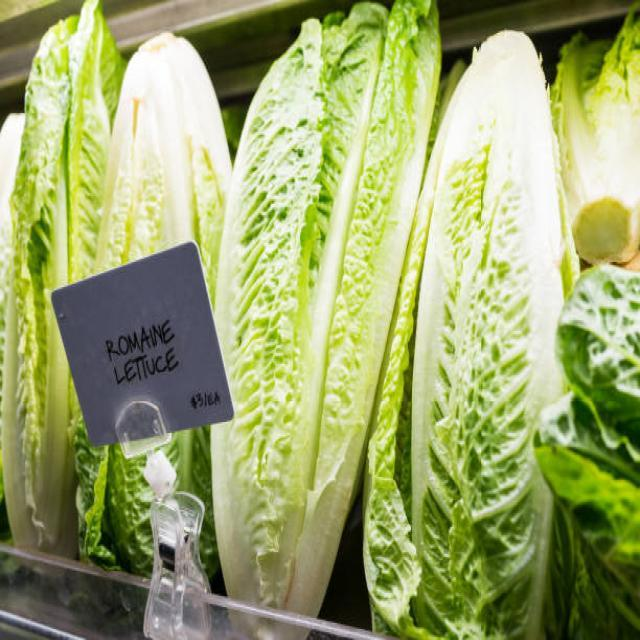Lettuce-Ready-to-Harvest: (212, 0, 440, 614), (365, 31, 578, 640), (2, 0, 124, 556), (536, 265, 640, 640), (96, 32, 231, 294), (551, 4, 640, 263)
